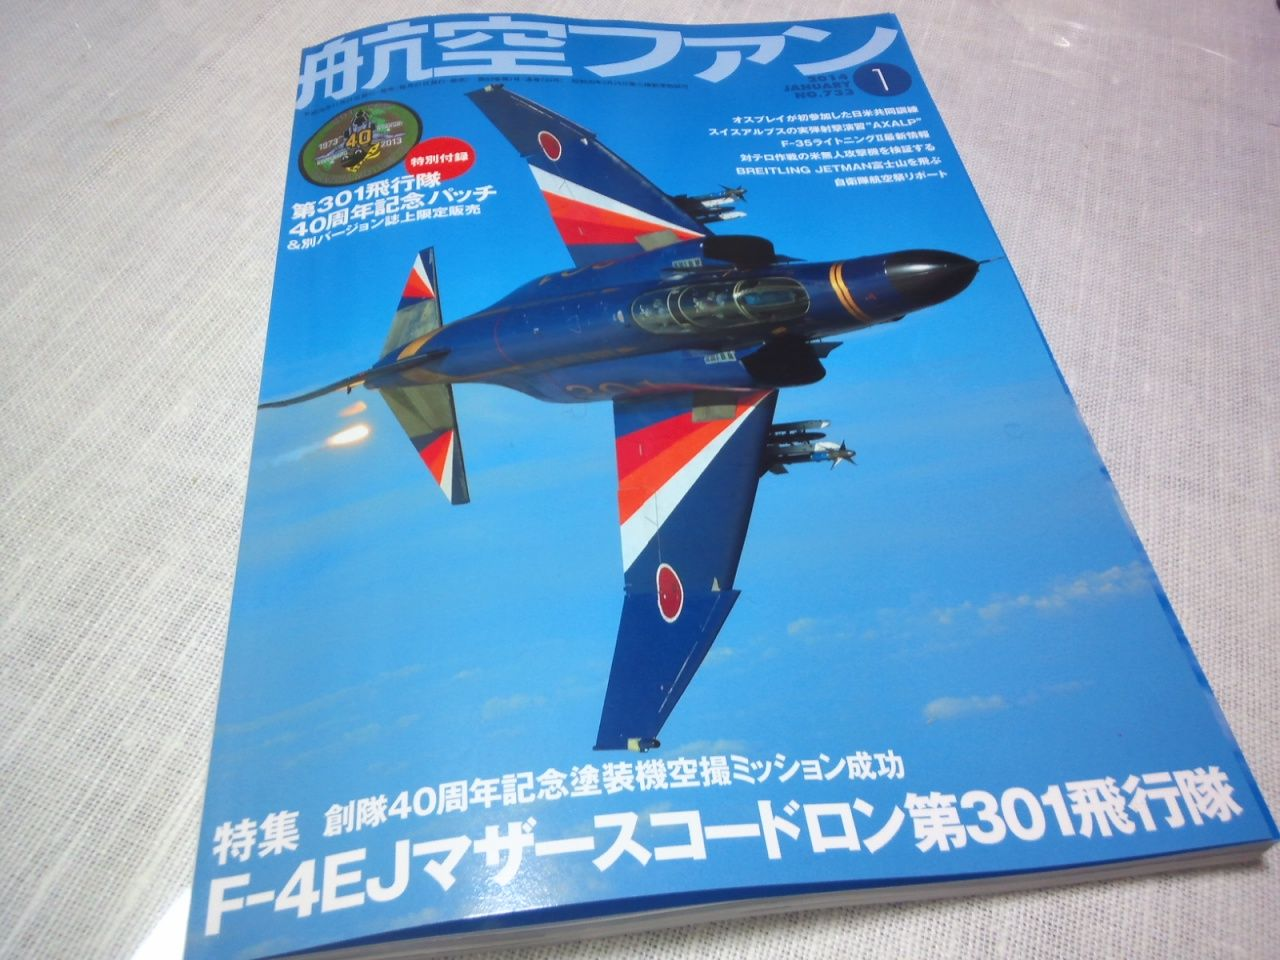F4: (257, 83, 1006, 753)
